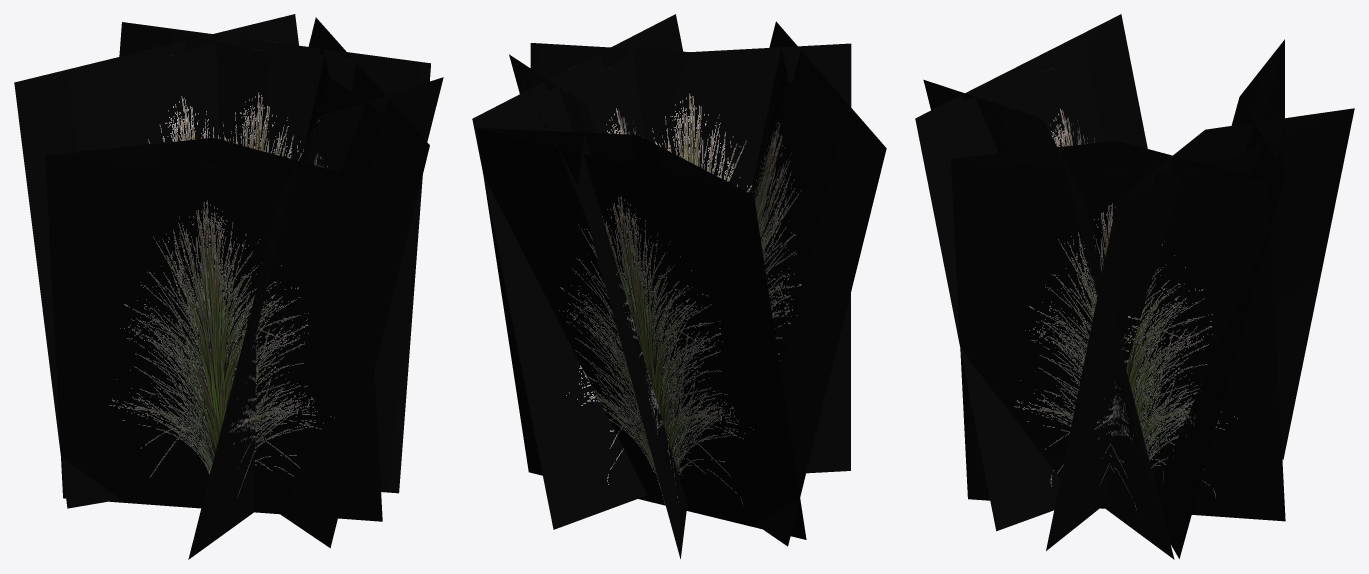
Rendered from LongGrass_GC.DAE.
3 renders of one model, left to right at view 1: azimuth 30°, elevation 25°; view 2: azimuth 150°, elevation 25°; view 3: azimuth 270°, elevation 25°, orthographic.
Parts seen in each view (by area): view 1: LongGrass_GC128, LongGrass_GC256; view 2: LongGrass_GC128, LongGrass_GC256; view 3: LongGrass_GC128, LongGrass_GC256.
Boxes of the visible parts, x1,y1,x2,y2 form: LongGrass_GC128: (17, 14, 442, 559); LongGrass_GC256: (14, 14, 443, 554); LongGrass_GC128: (473, 14, 885, 558); LongGrass_GC256: (472, 14, 886, 558); LongGrass_GC128: (915, 14, 1354, 559); LongGrass_GC256: (915, 14, 1354, 558).
Bounding box in the file's own units: 5.2 × 5.19 × 5.14.
